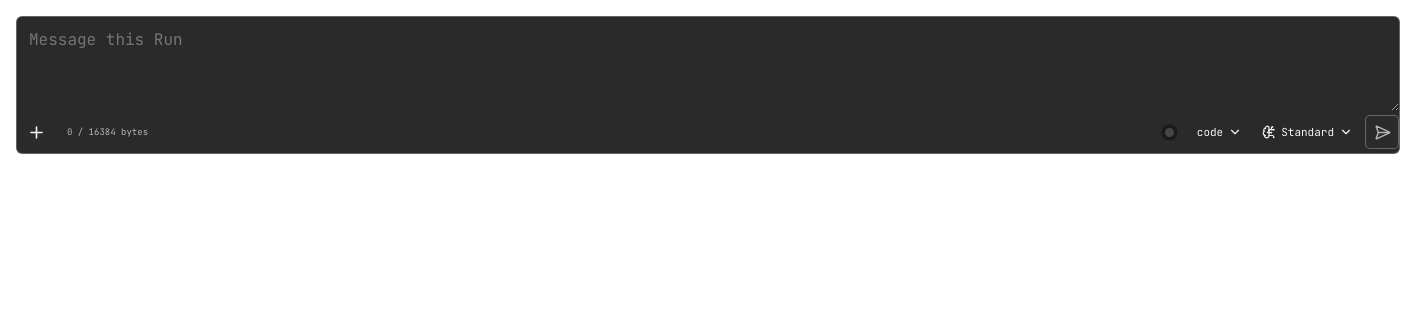
Scenario: SessionComposer › stops a foreground tool phase without losing the durable queued message
In the text box named "Message current Run": (708, 64) [17,17,1399,111], type "Read the linked review"
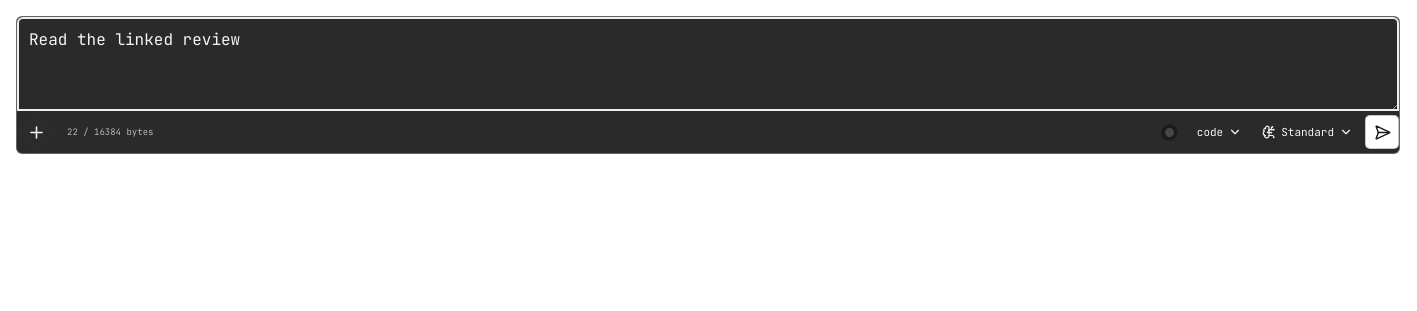
Click the button named "Queue message": (1382, 132) [1365,115,1399,149]
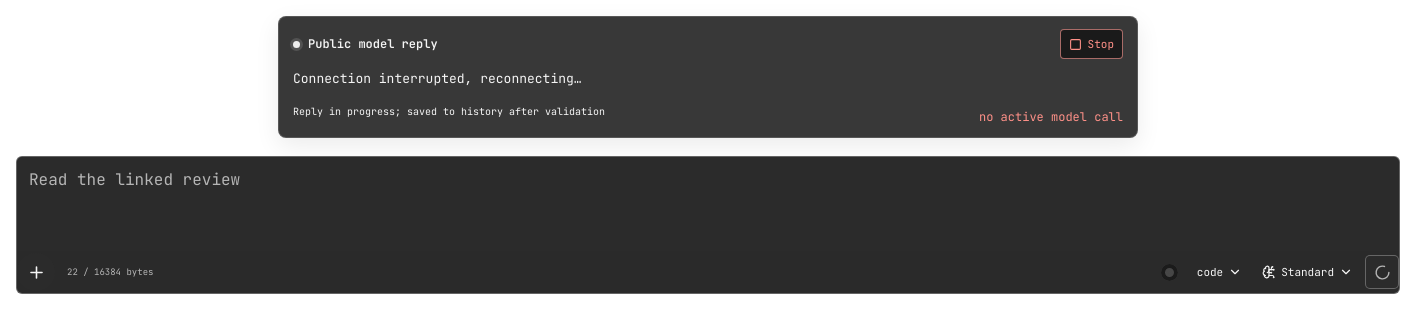
Click the button "Stop": (1091, 44) [1060,29,1123,59]
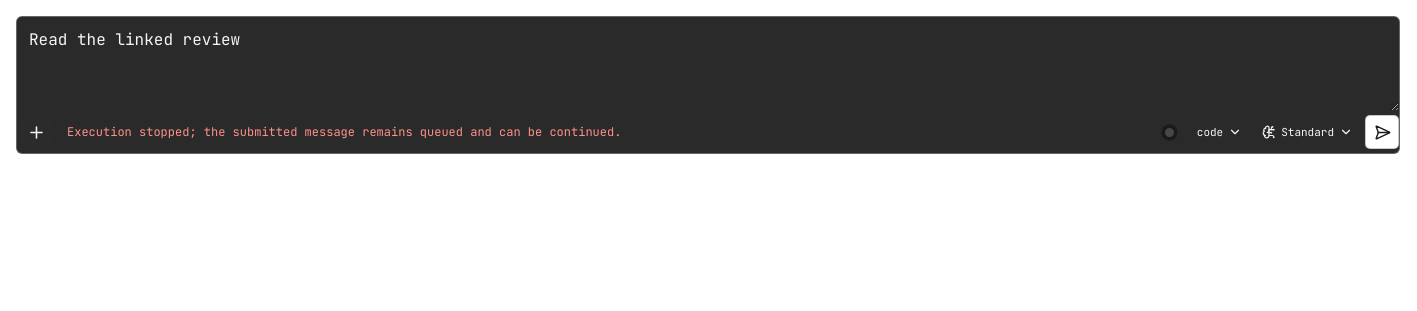
Expected: the text "submitted message remains queued" is shown, [67,124,621,140]
Click the button named "Queue message": (1382, 132) [1365,115,1399,149]
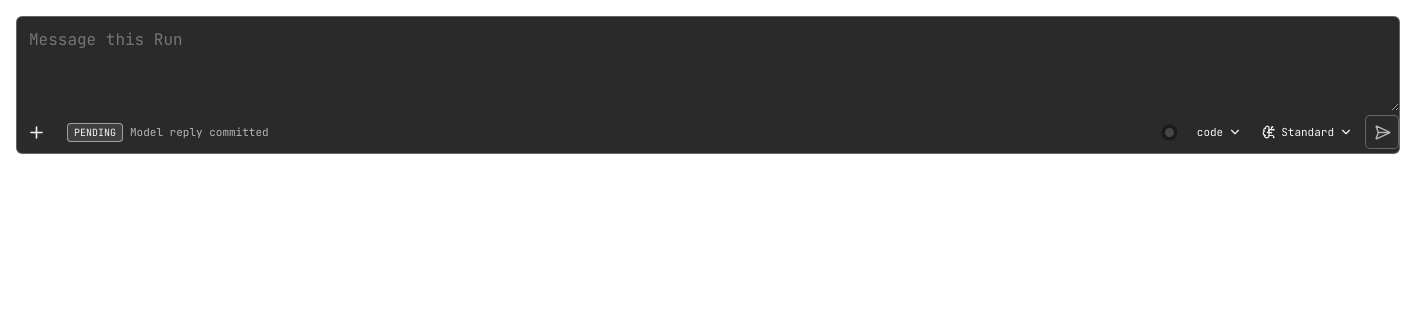
Expected: the text "Model reply committed" is shown, [130,125,269,139]
